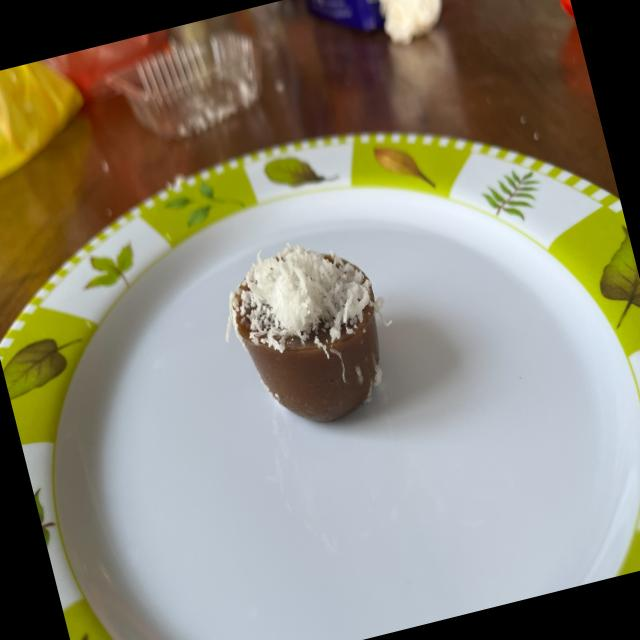Kuih lompang: (225, 243, 383, 421)
